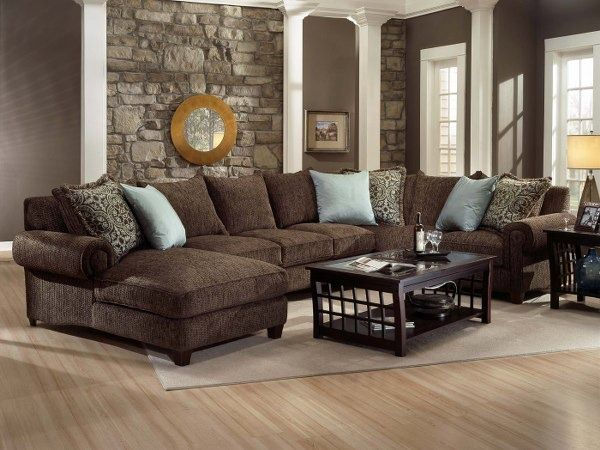chairs: (10, 161, 583, 366)
